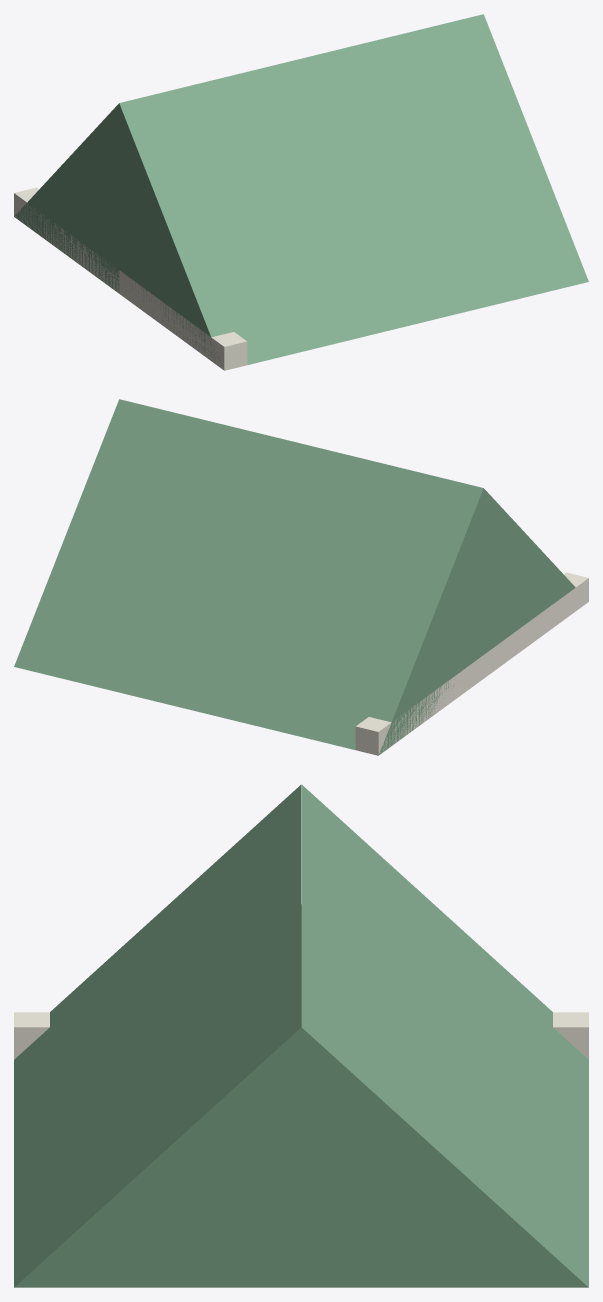
Rendered from kit_roof_pitched_end_green.glb.
The picture shows the model from 3 angles, top to bottom: view 1: azimuth 30°, elevation 25°; view 2: azimuth 150°, elevation 25°; view 3: azimuth 270°, elevation 25°; orthographic projection. The views are drawn at different scales.
Visible parts, largest first — view 1: kit_roof_pitched_end_green-col; view 2: kit_roof_pitched_end_green-col; view 3: kit_roof_pitched_end_green-col.
Boxes of the visible parts, x1=… form: kit_roof_pitched_end_green-col: x1=14, y1=14, x2=588, y2=370; kit_roof_pitched_end_green-col: x1=14, y1=399, x2=588, y2=755; kit_roof_pitched_end_green-col: x1=14, y1=784, x2=588, y2=1287.
Size of the model in its own units: 2 by 1 by 2.
